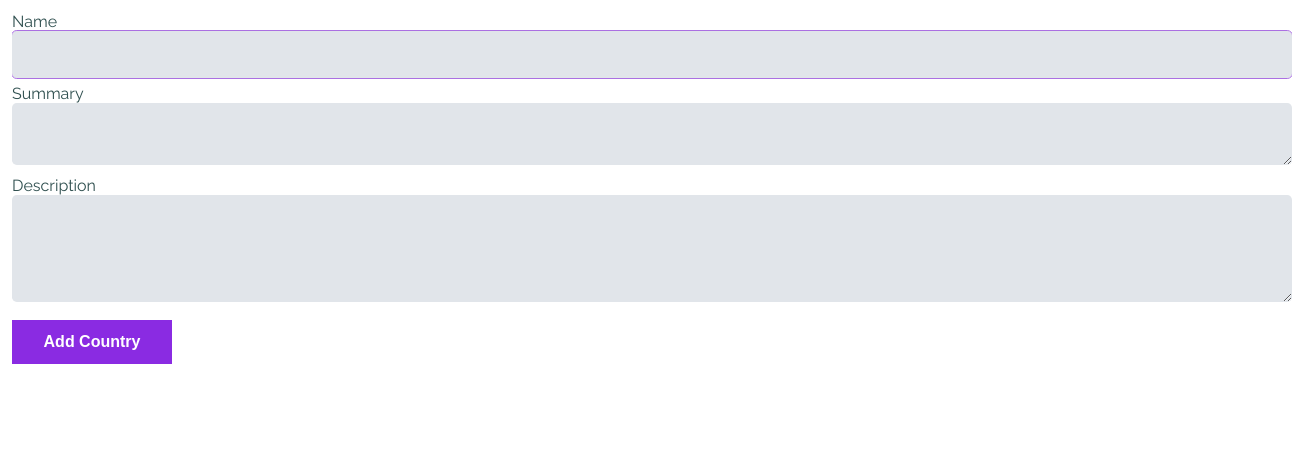
Scenario: Adding a country, happy path › clicking on the Add country button adds the country
The width and height of the screenshot is (1304, 451).
Type "test name" into the field labelled "Name" at point(652, 54), box [12,31,1292,78]
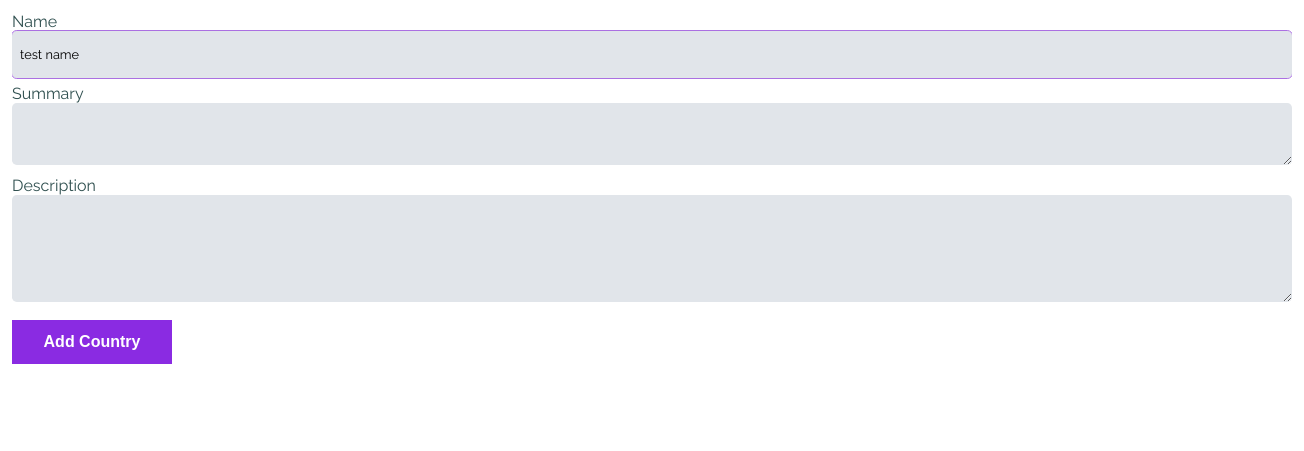
Type "test description" into the text box labelled "Description" at point(652, 248), box [12,195,1292,302]
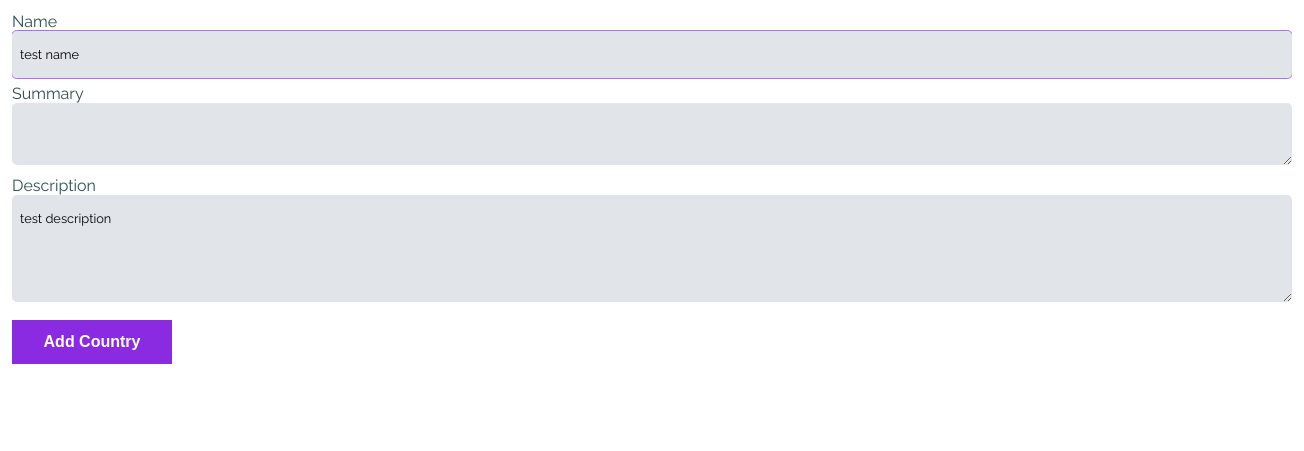
Type "test summary" into the text box labelled "Summary" at point(652, 134), box [12,103,1292,165]
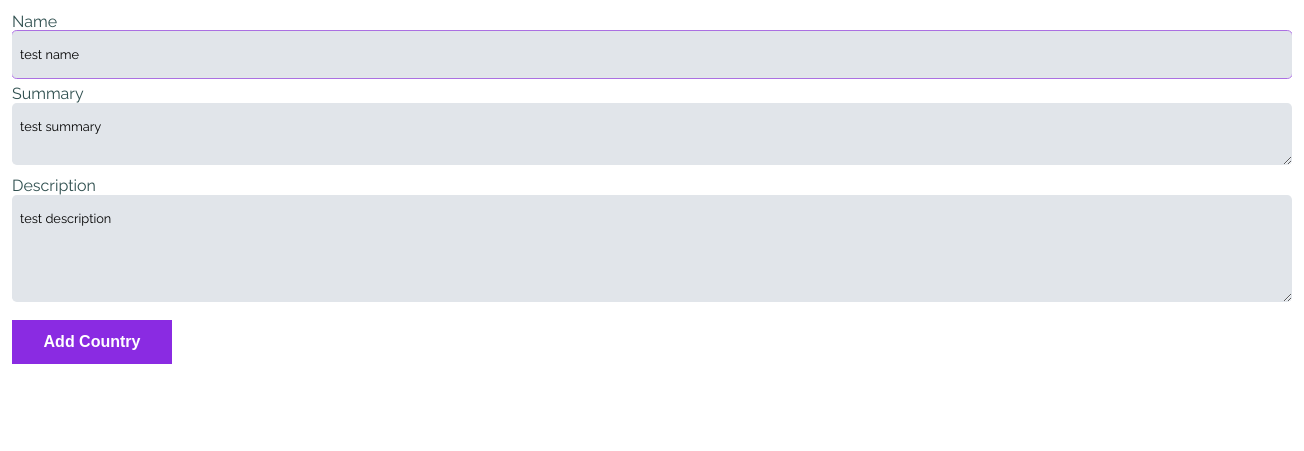
Click the button "Add Country" at point(92, 342), box [12,320,172,364]
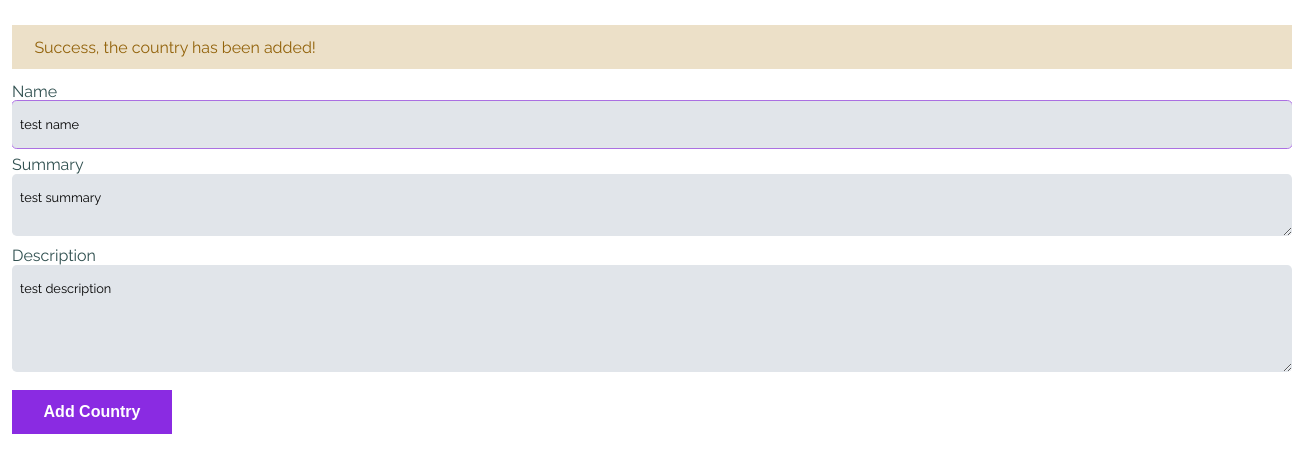
Result: the text "Success, the country has been added!" is shown at [12,25,1292,69]
